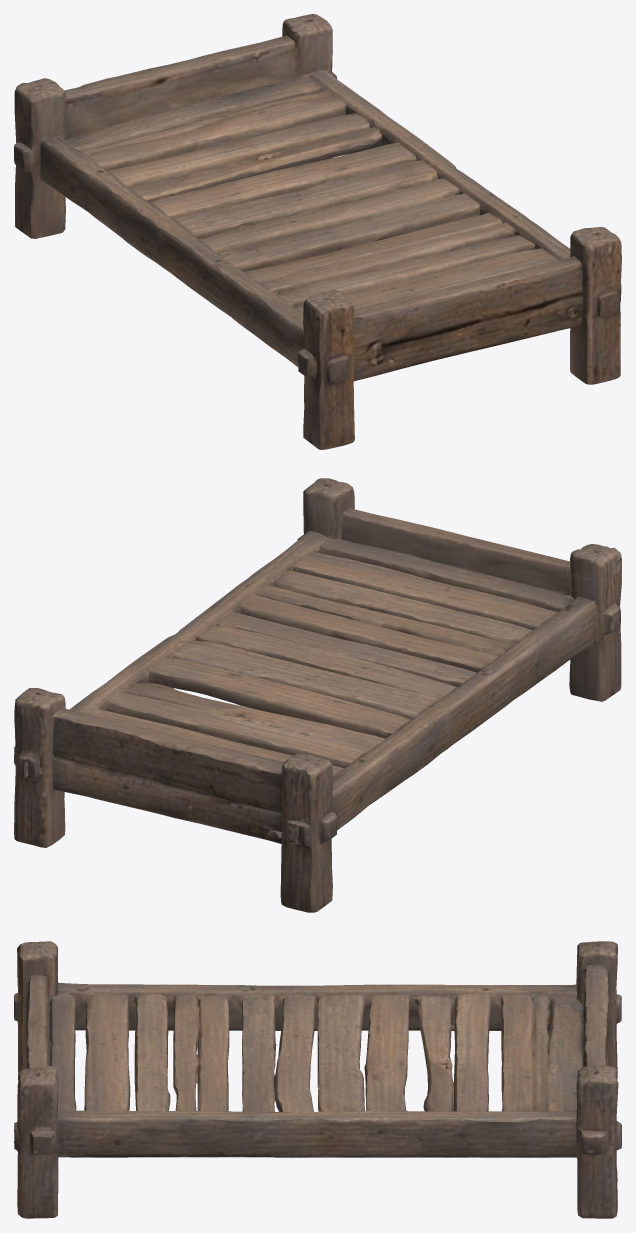
3 renders of one model, top to bottom at view 1: azimuth 30°, elevation 25°; view 2: azimuth 150°, elevation 25°; view 3: azimuth 270°, elevation 25°, orthographic. The views are drawn at different scales.
Visible parts, largest first — view 1: geometry_0; view 2: geometry_0; view 3: geometry_0.
Boxes of the visible parts, bbox=[...] form: geometry_0: bbox=[14, 14, 621, 449]; geometry_0: bbox=[14, 478, 621, 912]; geometry_0: bbox=[14, 941, 621, 1218].
Size of the model in its own units: 2 by 0.8746 by 3.44.
1 material, 1 textured.
